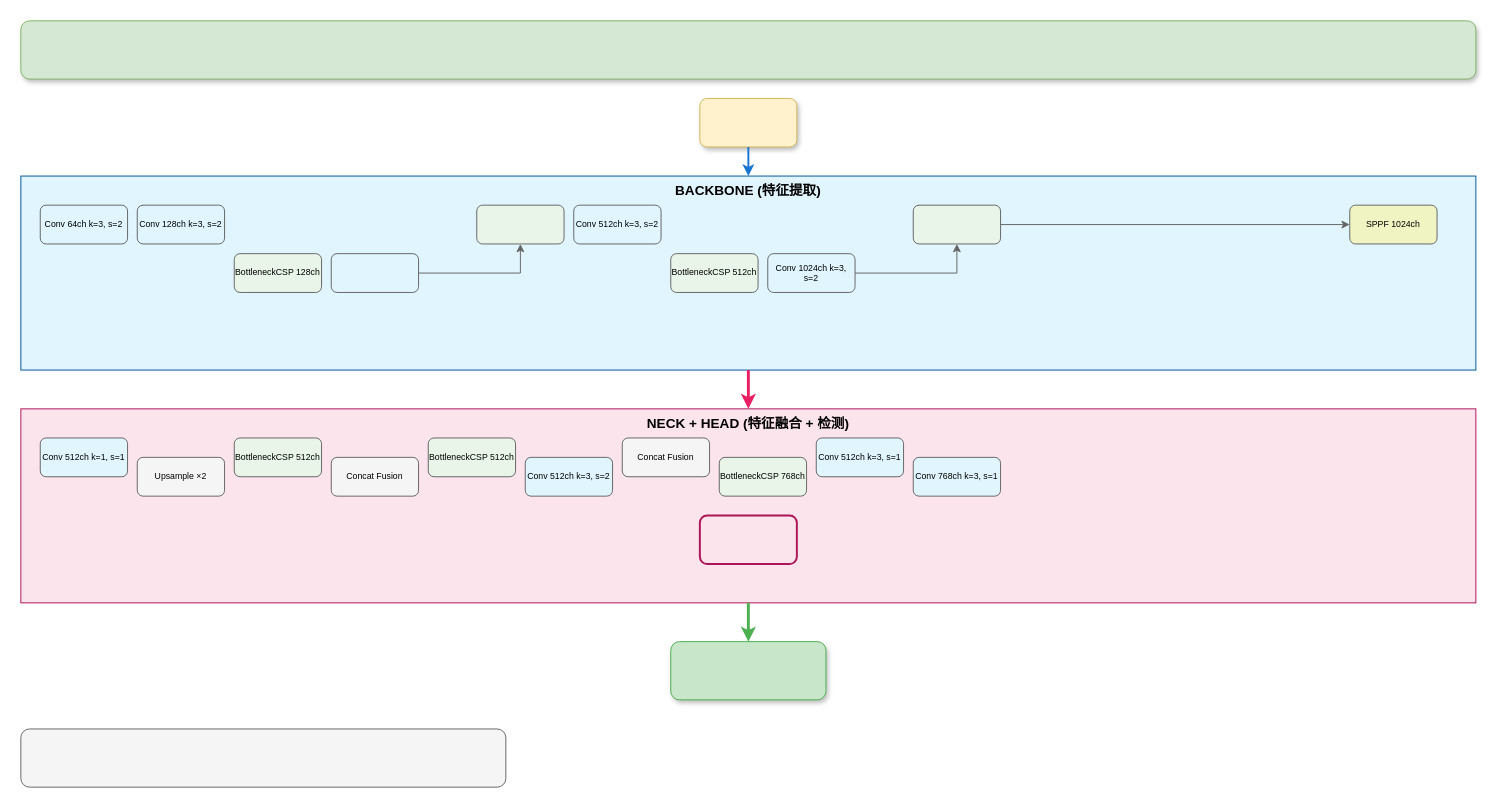
Image size: 1499x804. Some labels were removed from this diagram. The shapes that lost their labels are listed below. From the top down, each one's centre as x and y in pixels, then its label:
At point 749,51: "YOLOv4-CSP-IDetect 基础CSP-DarkNet backbone + IDetect检测头".
At point 749,124: "Input Image 640×640×3".
At point 520,224: "BottleneckCSP 256ch".
At point 956,224: "BottleneckCSP 1024ch".
At point 374,272: "Conv 256ch k=3, s=2".
At point 747,539: "IDetect Classes: nc".
At point 749,672: "Detection Results Bounding Boxes + Confidence Scores".
At point 263,757: "模块图例 ■ 标准卷积 ■ RepVGG ■ CSP ■ RCS-OSA ■ 注意力".
